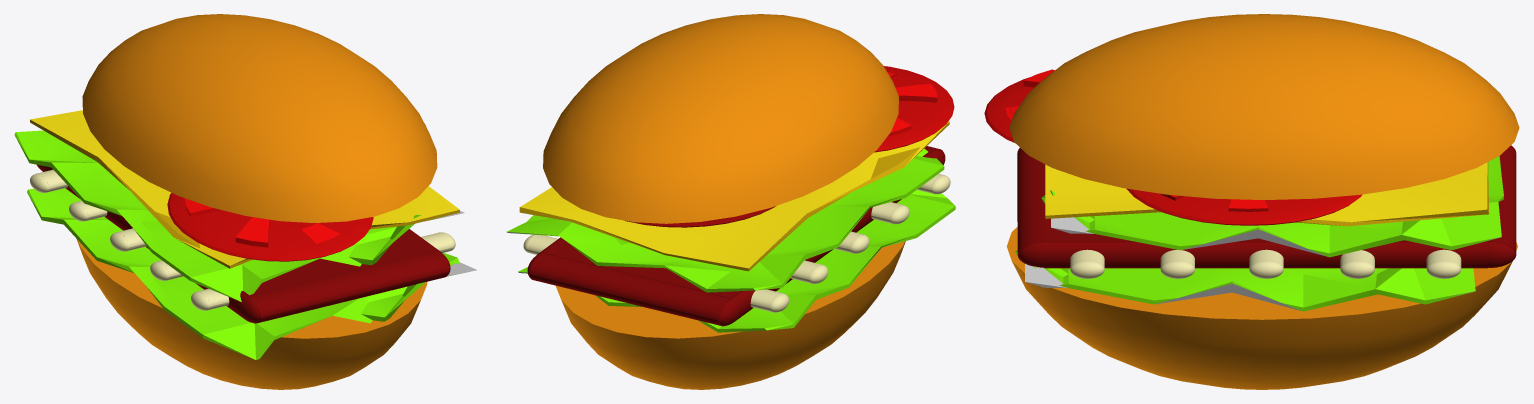
The model's file is costillas.glb.
3 views of the same model, side by side, from view 1: azimuth 30°, elevation 25°; view 2: azimuth 150°, elevation 25°; view 3: azimuth 270°, elevation 25° (orthographic). The views are drawn at different scales.
Parts seen in each view (by area): view 1: skp9256; view 2: skp9256; view 3: skp9256.
Boxes of the visible parts, x1,y1,x2,y2 form: skp9256: [14, 14, 476, 389]; skp9256: [506, 14, 955, 389]; skp9256: [984, 14, 1519, 389].
Size of the model in its own units: 1.86 by 1.86 by 2.63.
